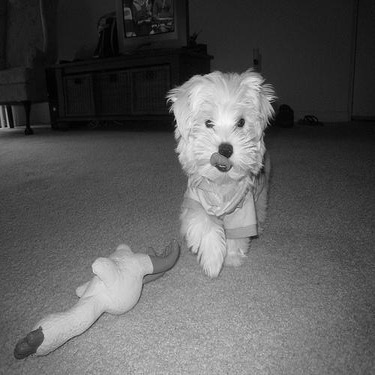dog: (147, 65, 287, 281)
